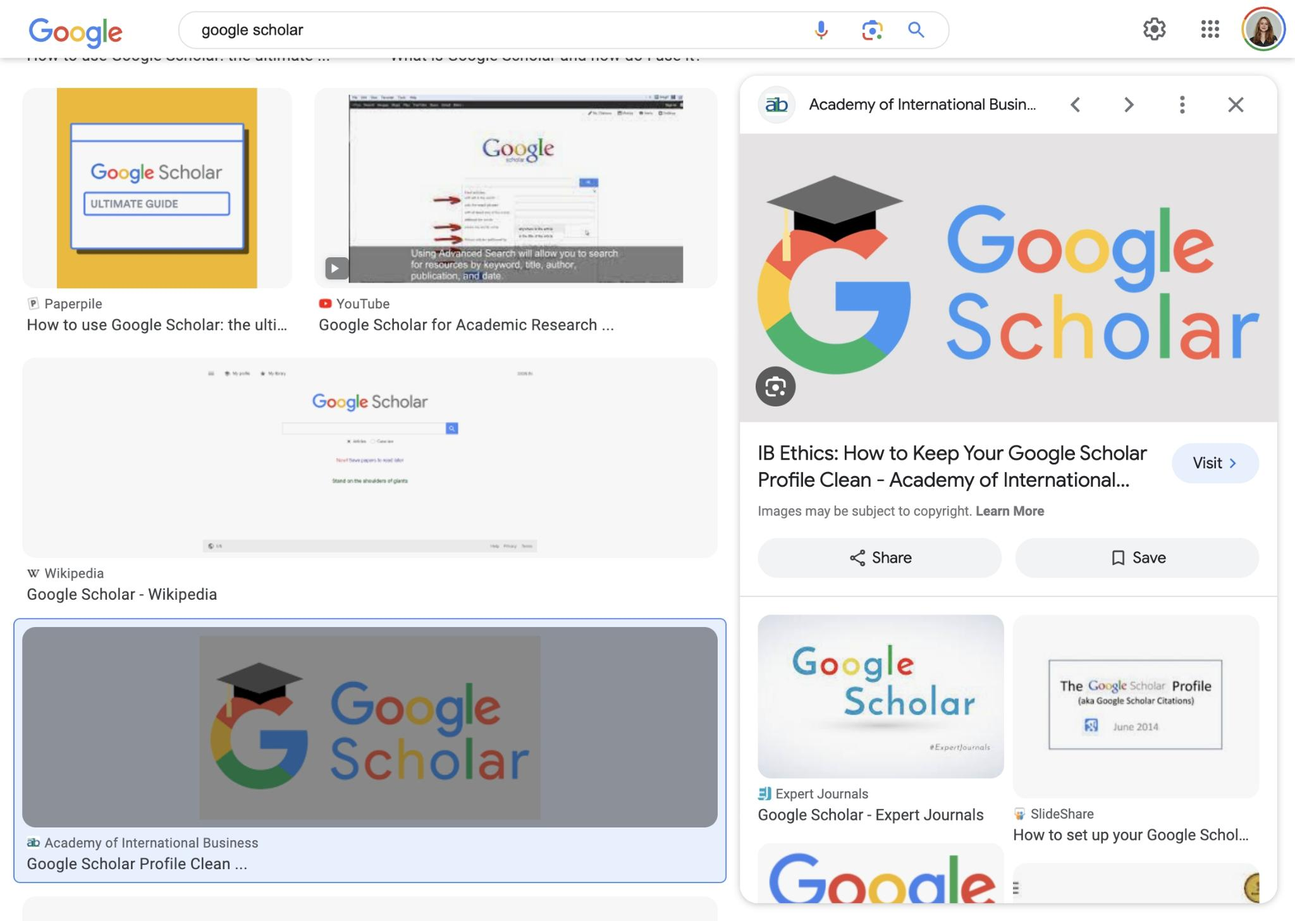webelement: (739, 133, 1276, 421), (21, 357, 716, 557), (21, 626, 716, 826), (757, 614, 1003, 921), (1012, 614, 1258, 921), (348, 94, 682, 282), (202, 363, 536, 551), (198, 635, 539, 819), (1012, 614, 1258, 798), (757, 614, 1003, 778), (56, 87, 256, 287), (21, 564, 716, 604), (21, 833, 716, 873), (201, 10, 796, 48), (757, 439, 1153, 492), (756, 842, 1002, 921), (21, 896, 716, 921), (313, 294, 716, 334), (1012, 862, 1258, 921), (750, 530, 1008, 583), (21, 24, 362, 64), (1008, 530, 1265, 583), (385, 24, 717, 64), (26, 584, 712, 603), (26, 854, 712, 873), (1012, 804, 1258, 853), (757, 785, 1003, 833), (21, 294, 291, 334), (757, 85, 1039, 122), (318, 314, 712, 334), (26, 45, 358, 64), (389, 45, 712, 64), (1165, 436, 1265, 489), (26, 314, 286, 334), (757, 804, 994, 824), (808, 94, 1048, 113), (1012, 825, 1249, 844), (792, 375, 933, 397), (181, 913, 556, 921), (1048, 77, 1101, 130), (1102, 77, 1155, 130), (1155, 77, 1208, 130), (1208, 77, 1261, 130), (750, 361, 799, 410), (845, 5, 894, 53), (898, 5, 947, 53), (796, 5, 844, 53), (1131, 6, 1175, 50), (1187, 6, 1231, 50), (1241, 6, 1285, 50), (975, 503, 1044, 518), (872, 546, 911, 568), (1131, 546, 1164, 568), (1193, 451, 1221, 473), (765, 93, 787, 115), (329, 261, 343, 274), (26, 835, 39, 849), (26, 27, 39, 40), (389, 27, 402, 40), (26, 296, 39, 309), (318, 296, 331, 309), (26, 566, 39, 579), (757, 787, 770, 800), (1012, 807, 1025, 820)
